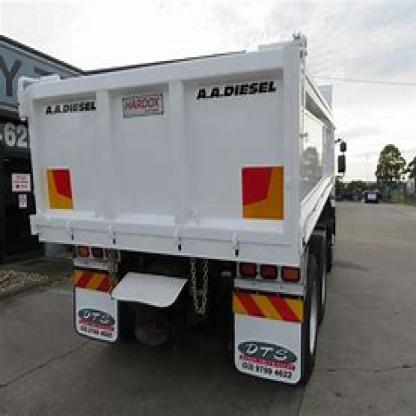dump_truck: (24, 44, 344, 384)
